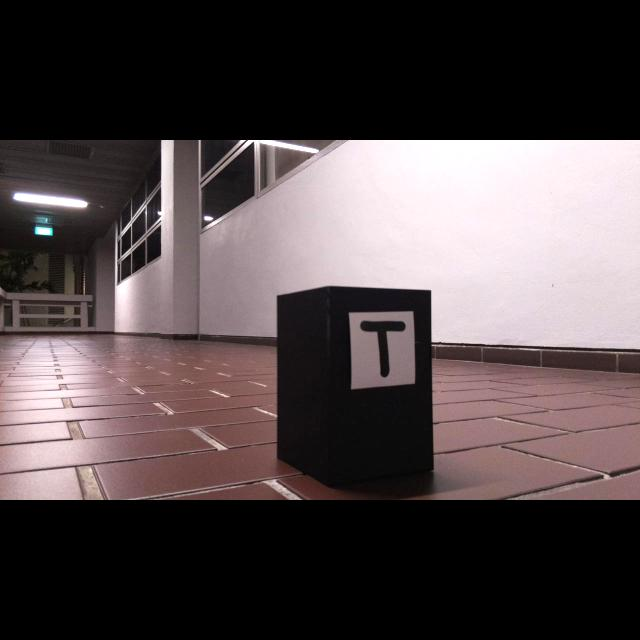T: (360, 321, 407, 377)
